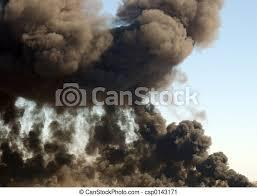smoke: (2, 1, 213, 187)
